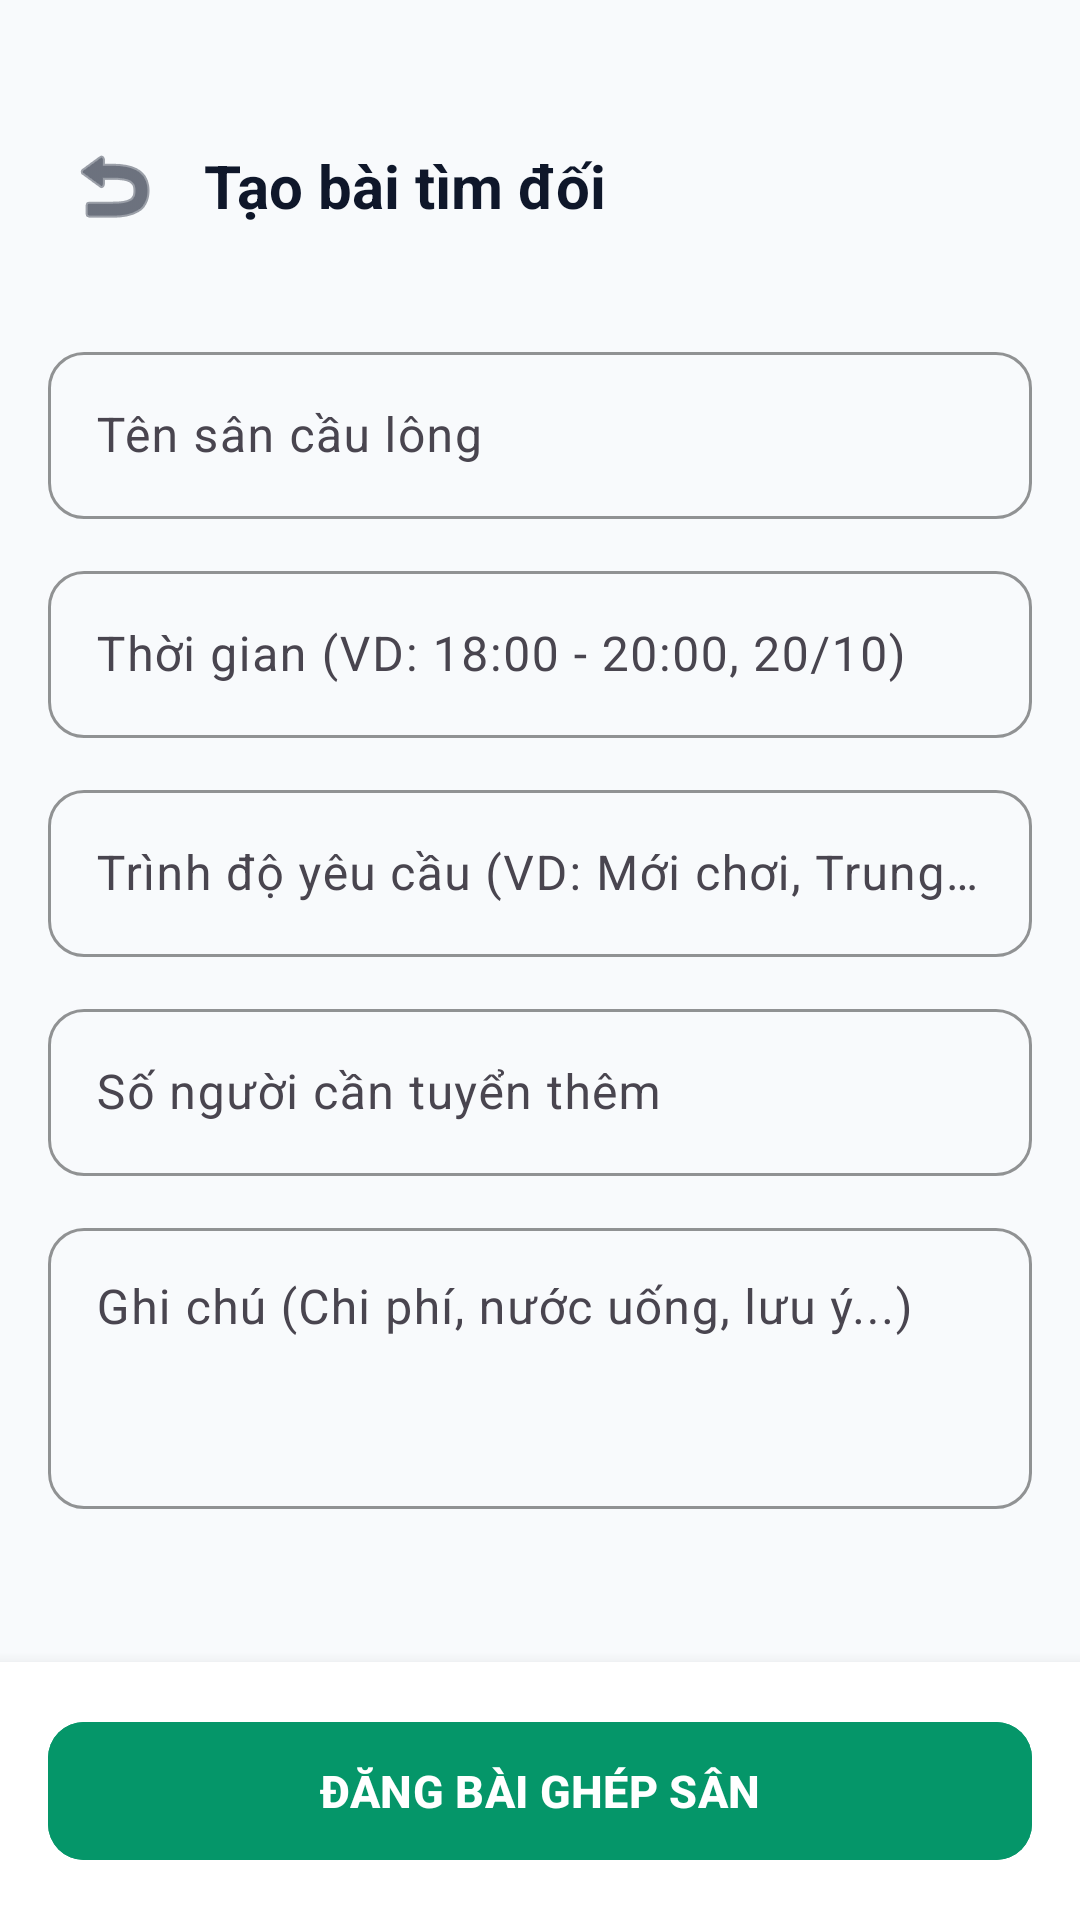

Icon bounding boxes for this 1080w x 1920h phone screenshot, format (x1, y1, x2, y2):
Quay lại: (81, 155, 150, 218)
